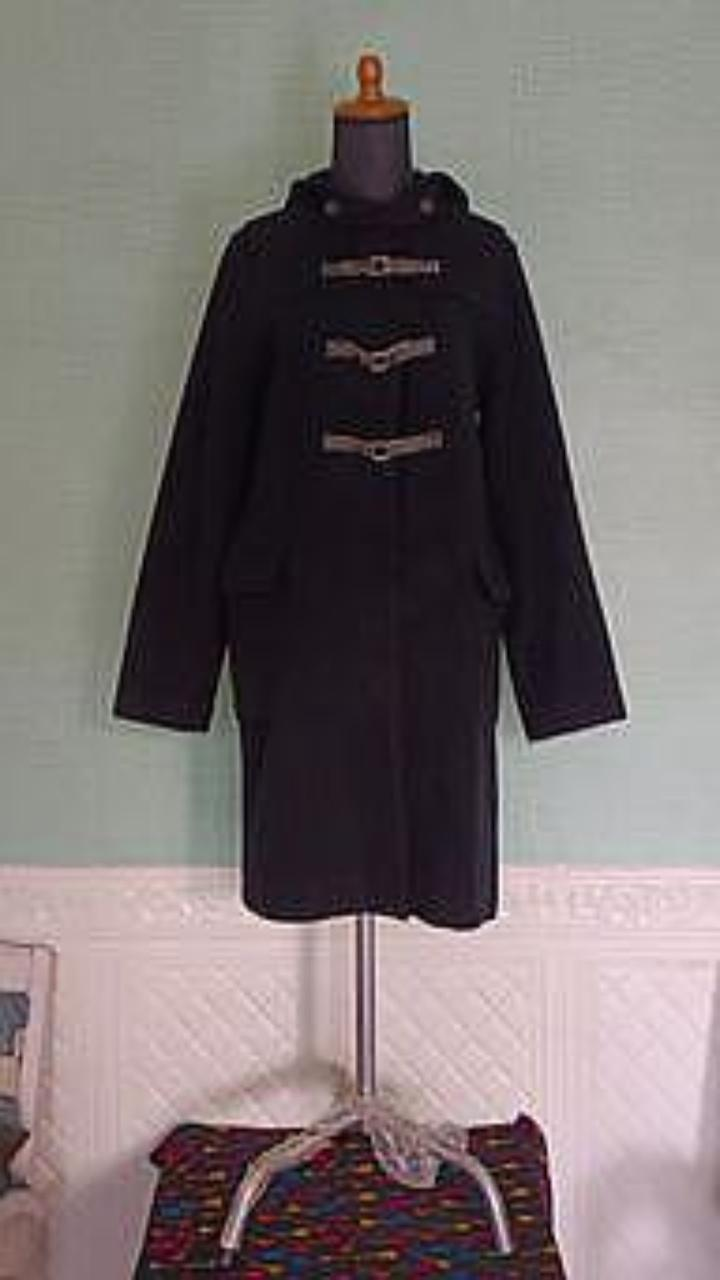Coat: (113, 168, 627, 927)
